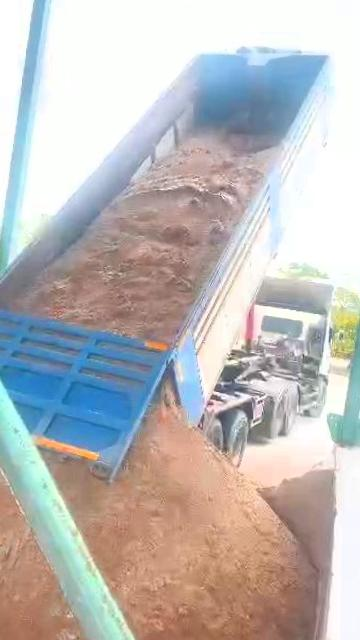sand: (47, 380, 331, 640), (11, 128, 273, 345), (0, 438, 93, 640)
